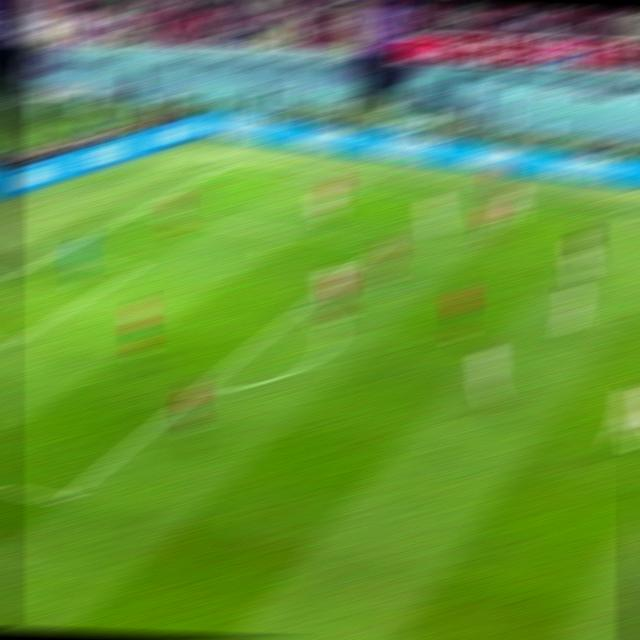bigarea_bottom_inner: (47, 486, 77, 511)
bigarea_top_inner: (370, 242, 389, 252)
bigarea_top_outter: (129, 205, 149, 213)
bottom_arc_area_intersection: (187, 388, 205, 398)
corner: (216, 162, 236, 168)
smallarea_top_inner: (125, 264, 147, 274)
smallarea_top_outter: (43, 249, 64, 259)
top_arc_area_intersection: (295, 299, 316, 310)
